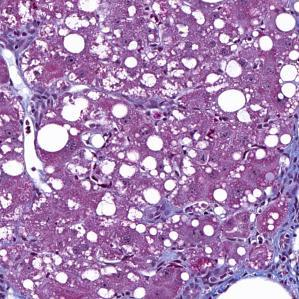fibrosis: (242, 132, 299, 280)
